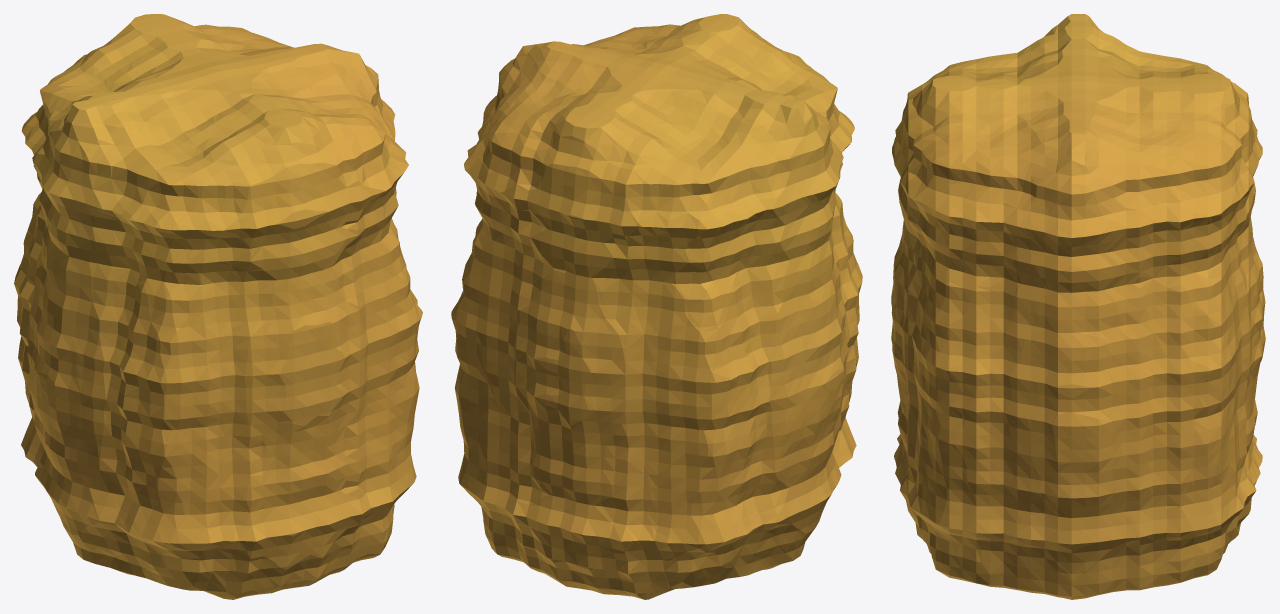
3 views of the same model, side by side, from view 1: azimuth 30°, elevation 25°; view 2: azimuth 150°, elevation 25°; view 3: azimuth 270°, elevation 25° (orthographic). The views are drawn at different scales.
Parts seen in each view (by area): view 1: geometry_0; view 2: geometry_0; view 3: geometry_0.
Boxes of the visible parts, left/top/right/bottom form: geometry_0: left=14, top=14, right=422, bottom=599; geometry_0: left=451, top=14, right=862, bottom=599; geometry_0: left=891, top=14, right=1265, bottom=599.
Size of the model in its own units: 1.25 by 1.61 by 1.17.
